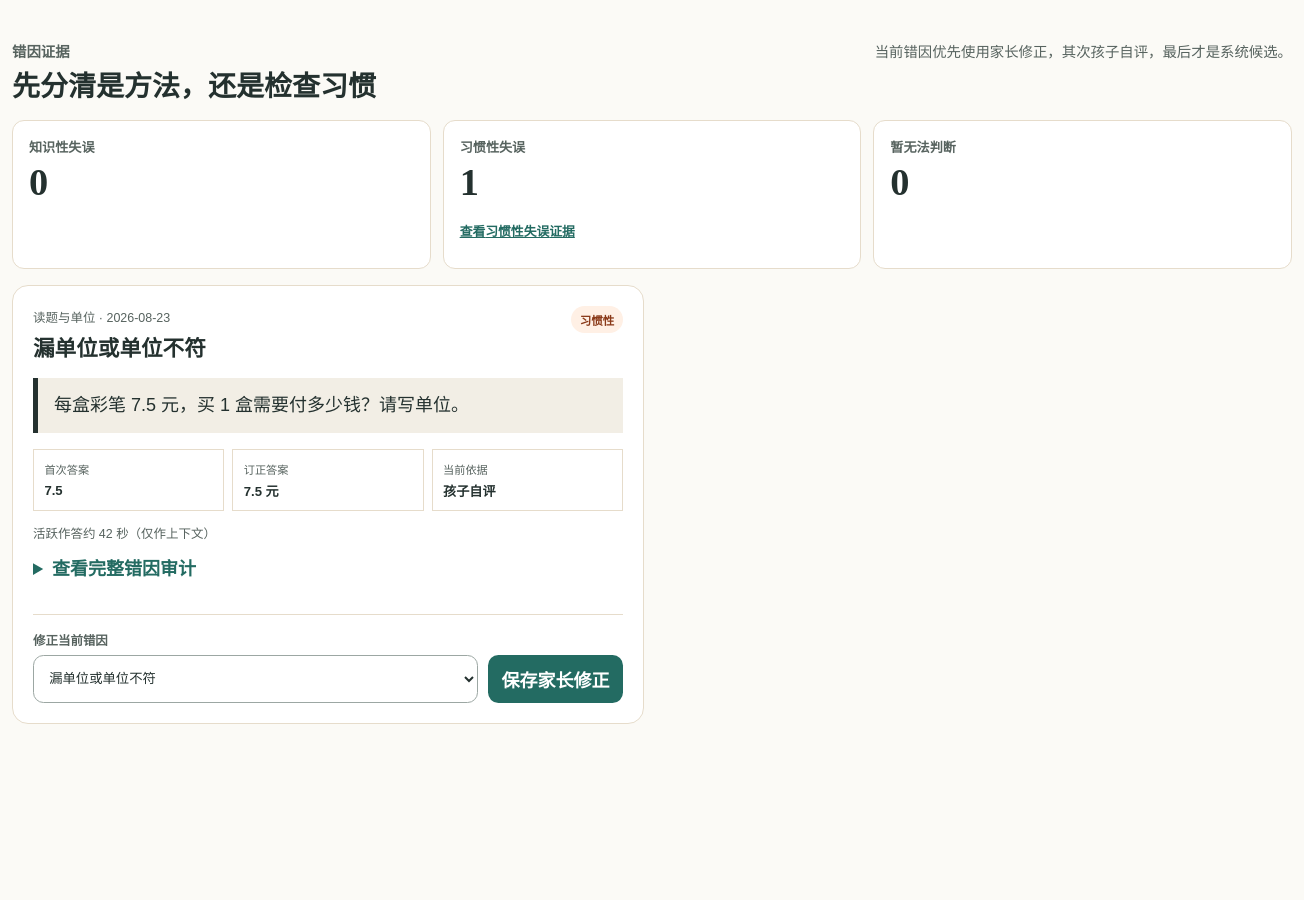
Test: submits a parent correction and refreshes the audited read model
expect the text "活跃作答约 42 秒（仅作上下文）" is shown: met, box x1=33 y1=526 x2=216 y2=540
Select "会做但计算有误" in the dropdown labelled "修正当前错因" at (256, 679), box x1=33 y1=655 x2=478 y2=703
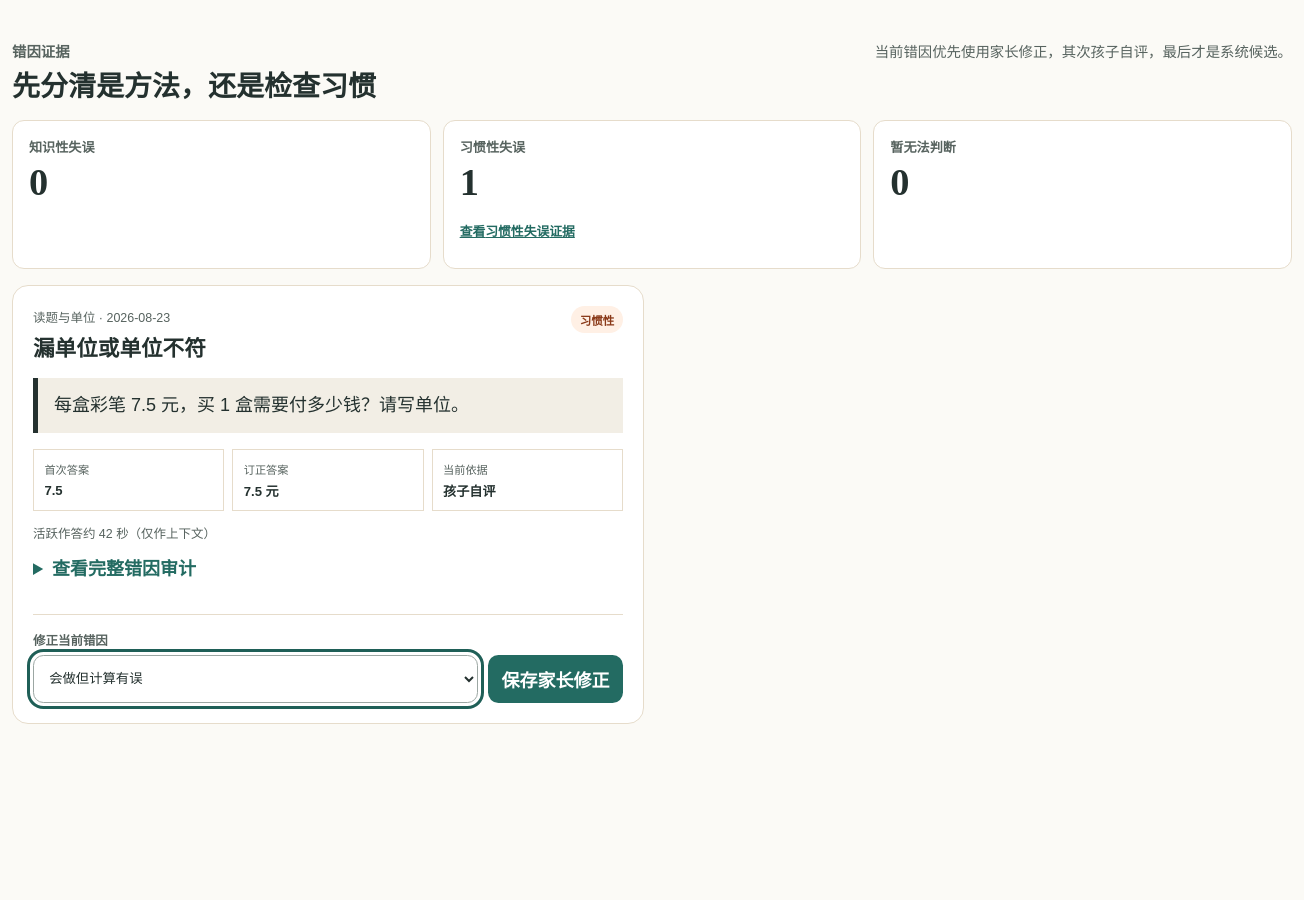
Click the button "保存家长修正" at (555, 679), box x1=488 y1=655 x2=623 y2=703
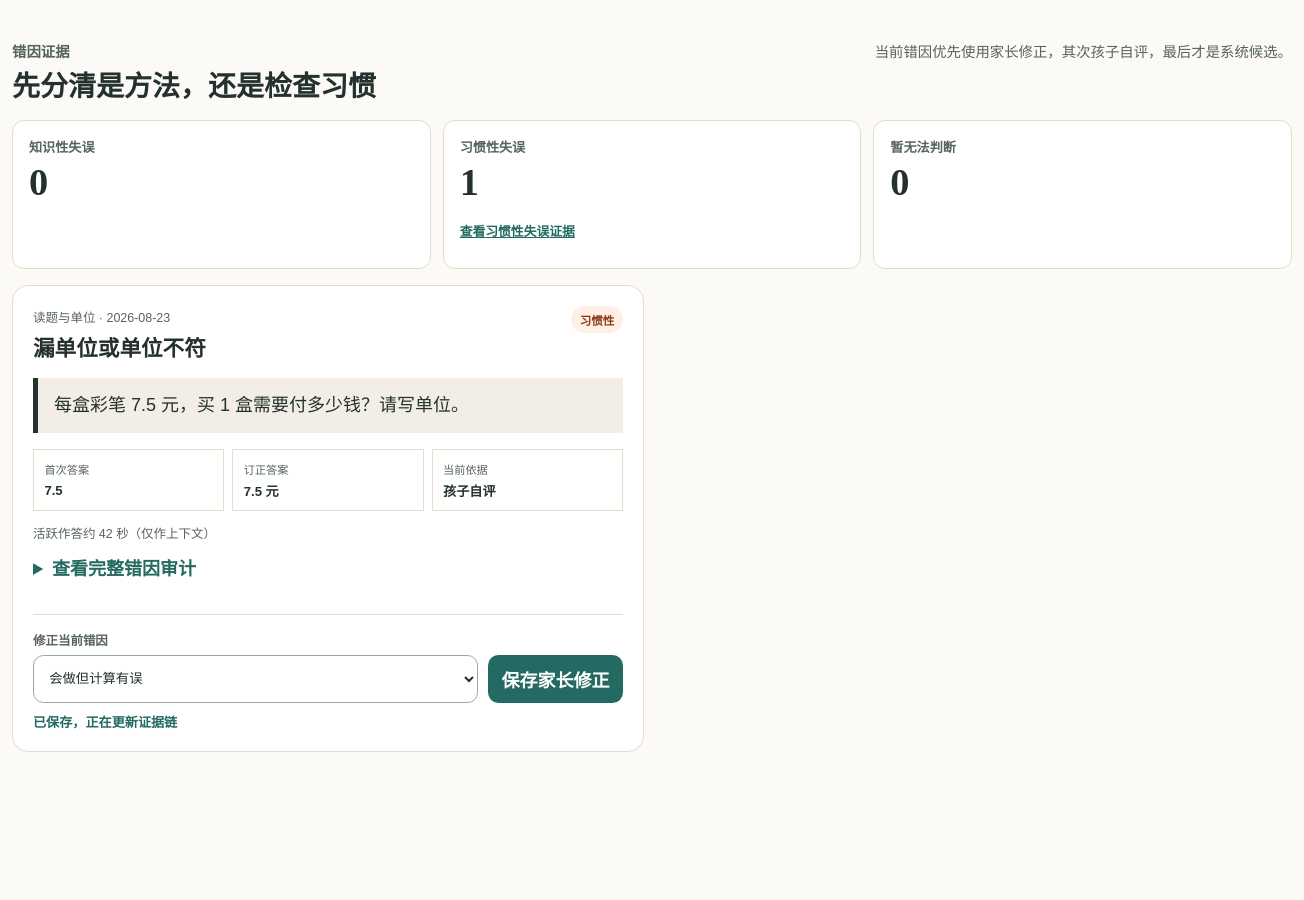
expect the message reads "已保存，正在更新证据链": met, box x1=33 y1=715 x2=177 y2=730
